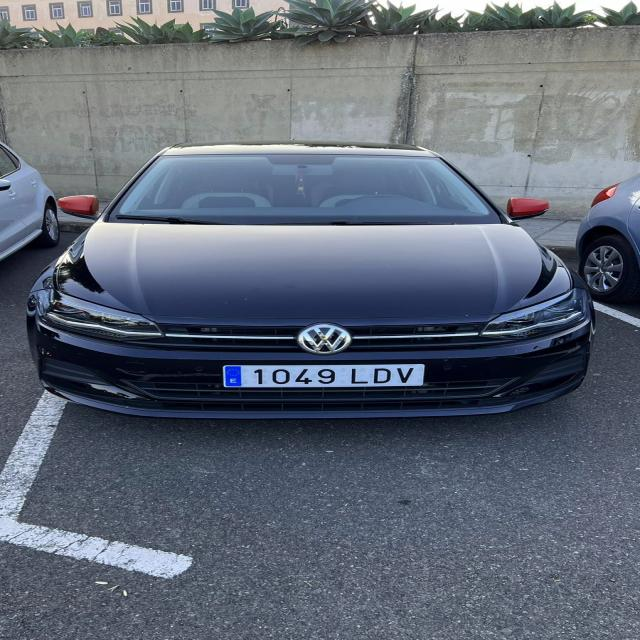License-Plate: (221, 361, 426, 389)
